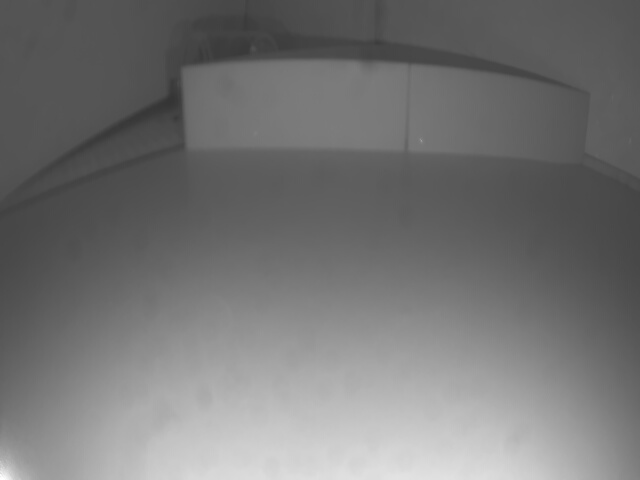Point: (182, 65, 591, 163)
